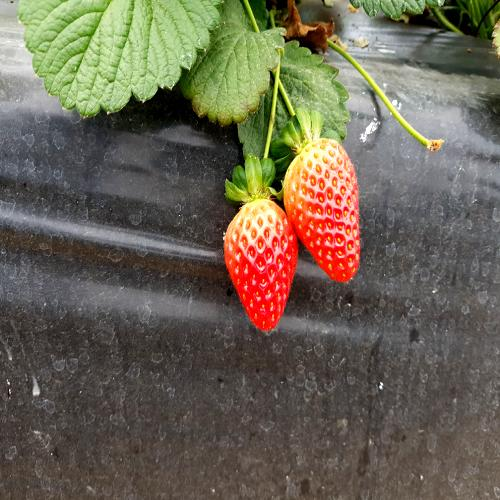ripe: (282, 132, 367, 291), (221, 191, 300, 342)
